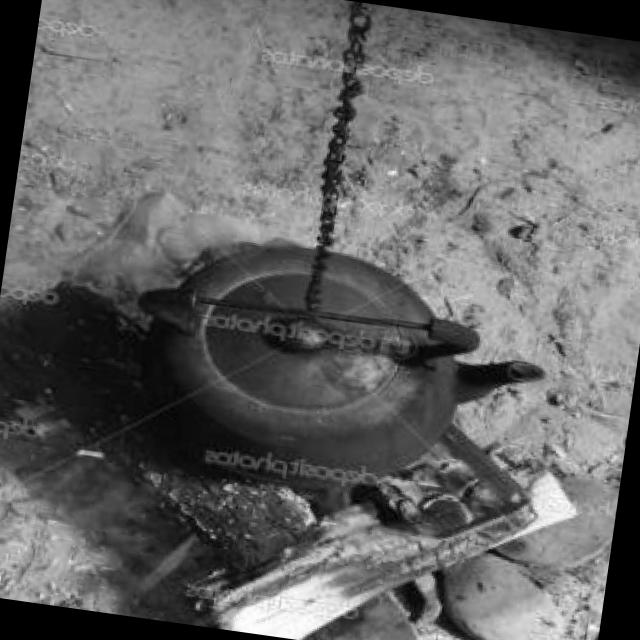fire: (110, 252, 202, 346)
